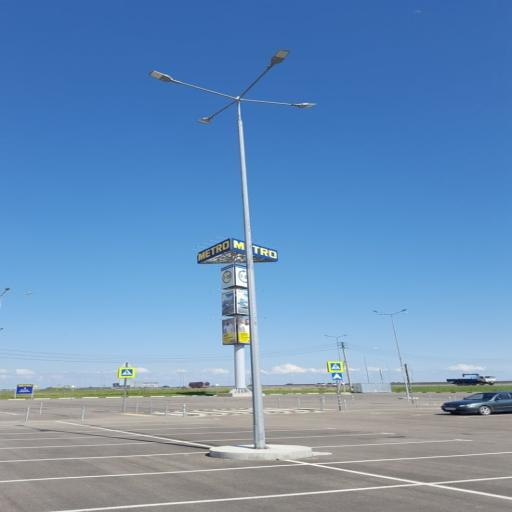Light-pole: (140, 44, 357, 470)
